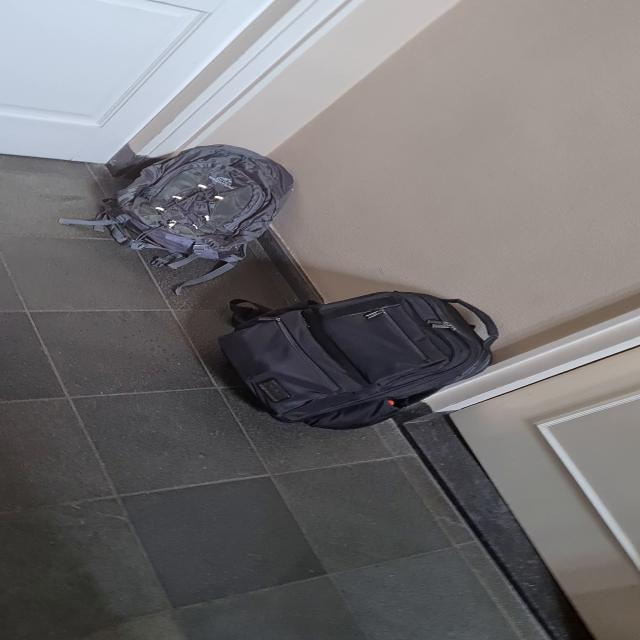backpack: (207, 282, 506, 435), (102, 138, 300, 278)
